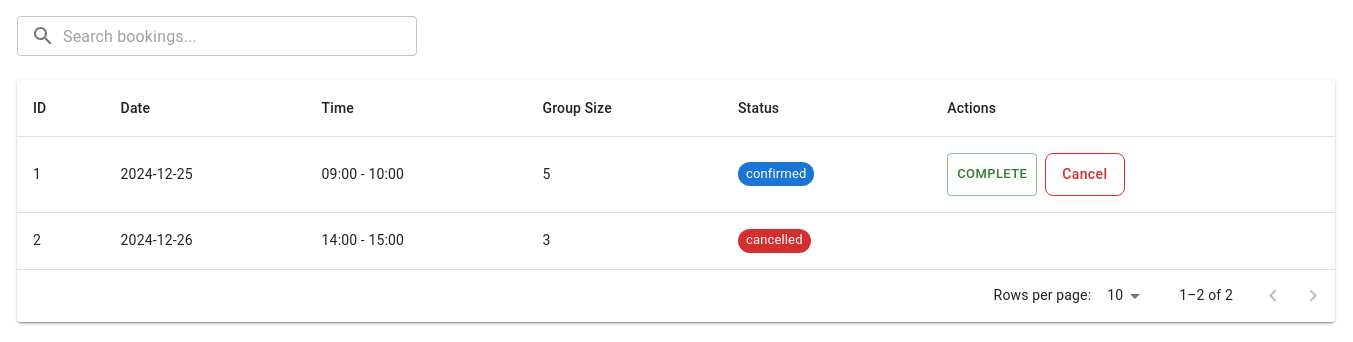
Test case: AdminBookingManagement › Search Functionality › should show clear button when search has value
This screenshot has width=1353, height=342.
In the field with placeholder "Search bookings...": {"x": 240, "y": 36} [63,16,417,56], type "test"
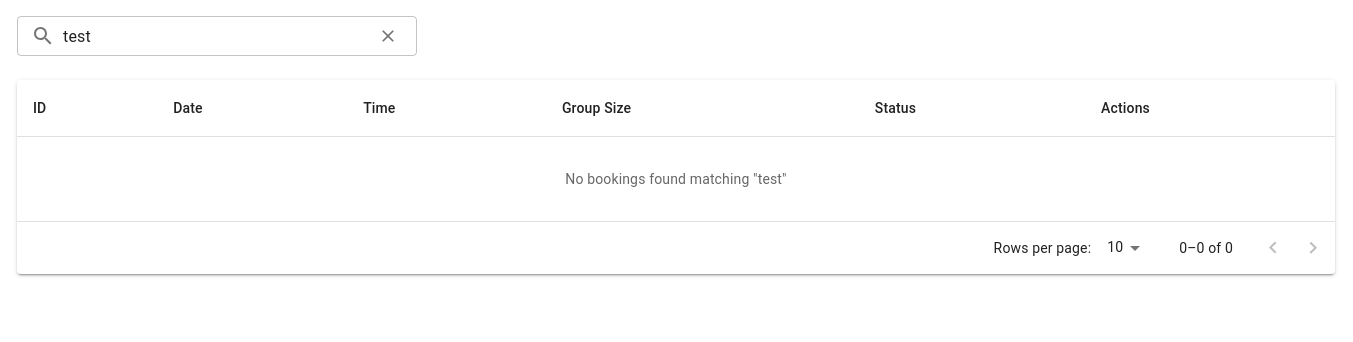
Expected: the icon with test id "CloseIcon" is shown, [378,26,398,46]
